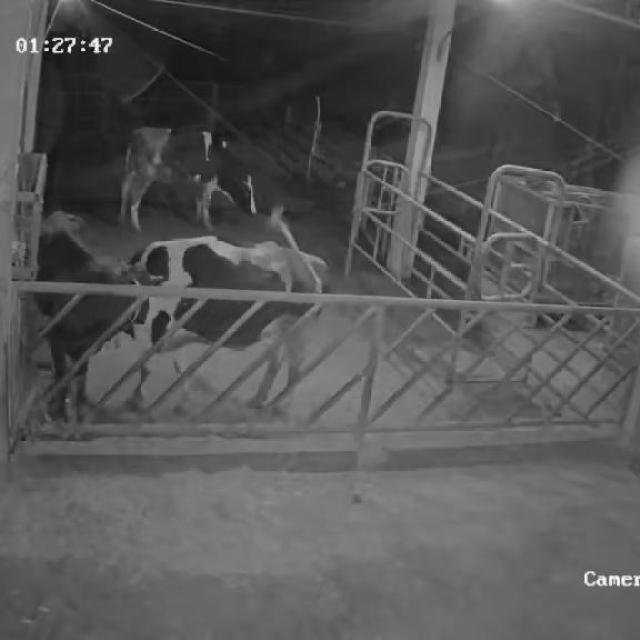standing: (109, 235, 329, 428), (39, 217, 154, 420), (120, 116, 262, 233)
